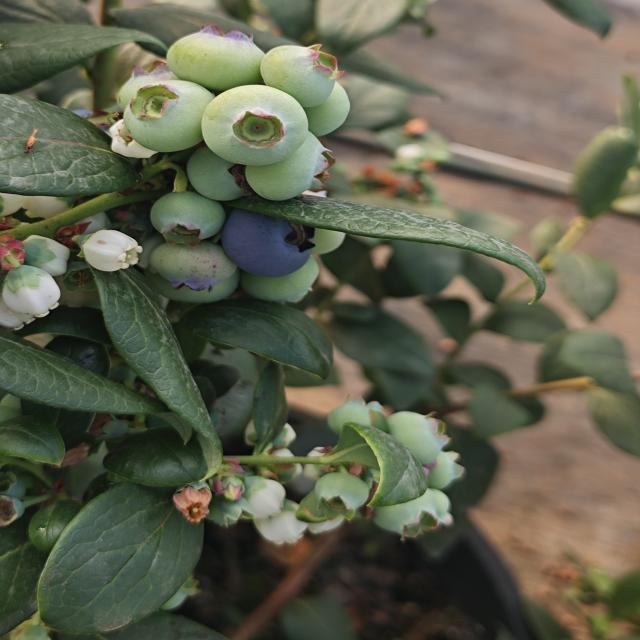ripe: (228, 202, 314, 275)
